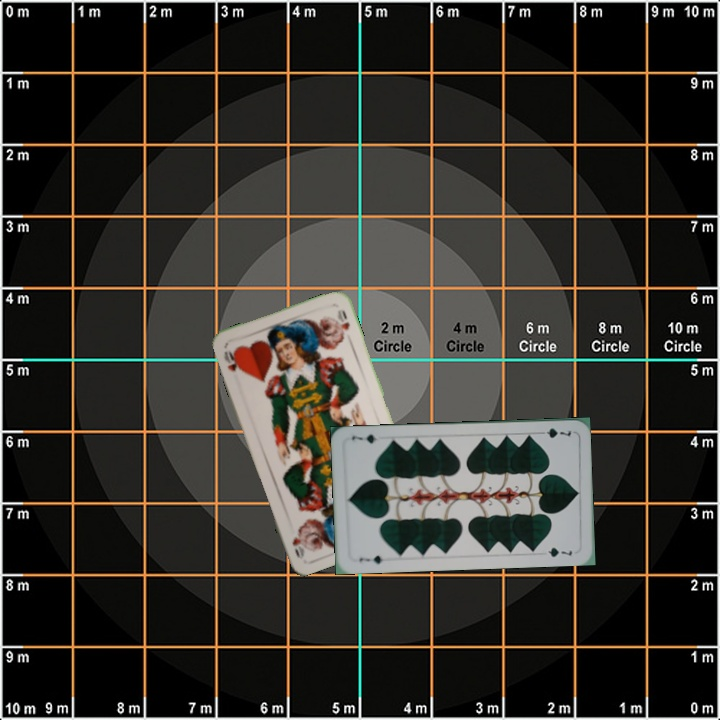G7: (534, 424, 574, 440), (355, 551, 385, 566)
HO: (220, 346, 243, 374)
